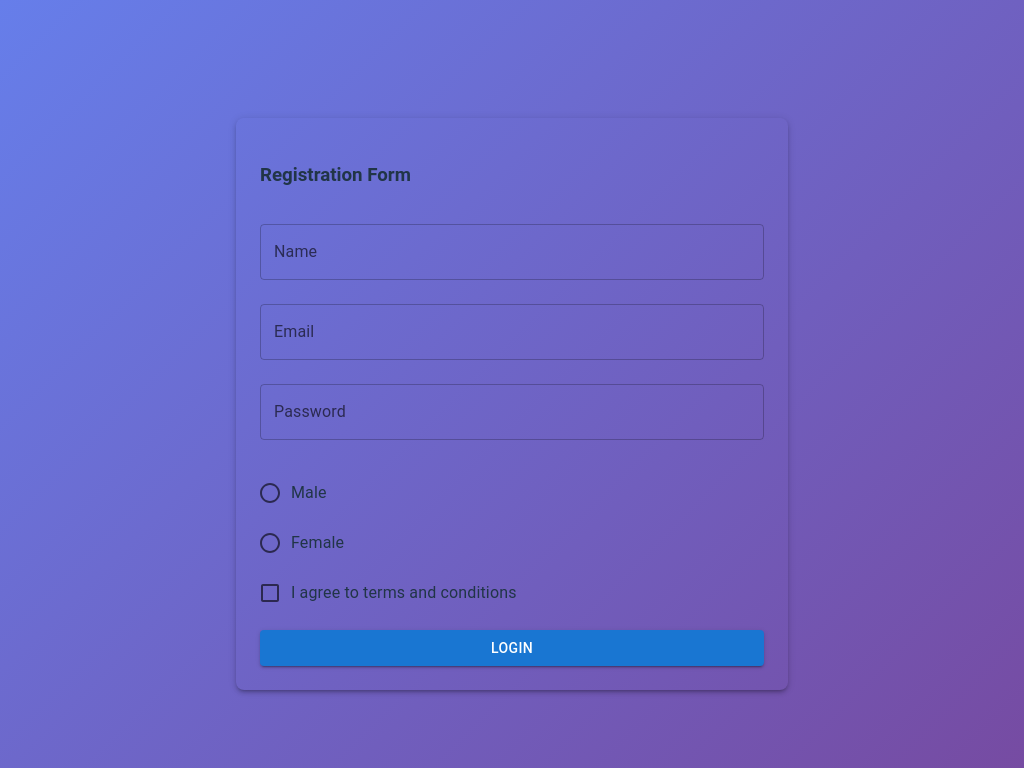
Test case: Login Form Component › SHOWS ERROR for invalid email
Type "wrongemail" into the field labelled "Email".
click(512, 332); type("wrongemail")  # box left=260, top=304, right=764, bottom=360
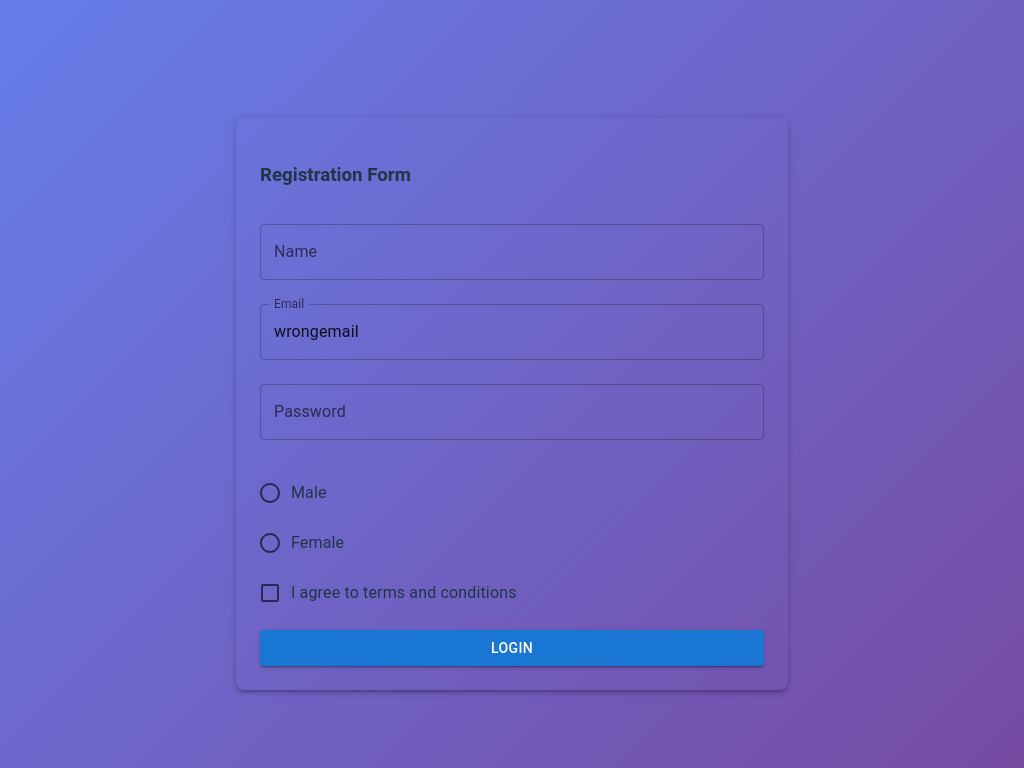
Type "123456" into the password field labelled "Password".
click(512, 412); type("123456")  # box left=260, top=384, right=764, bottom=440
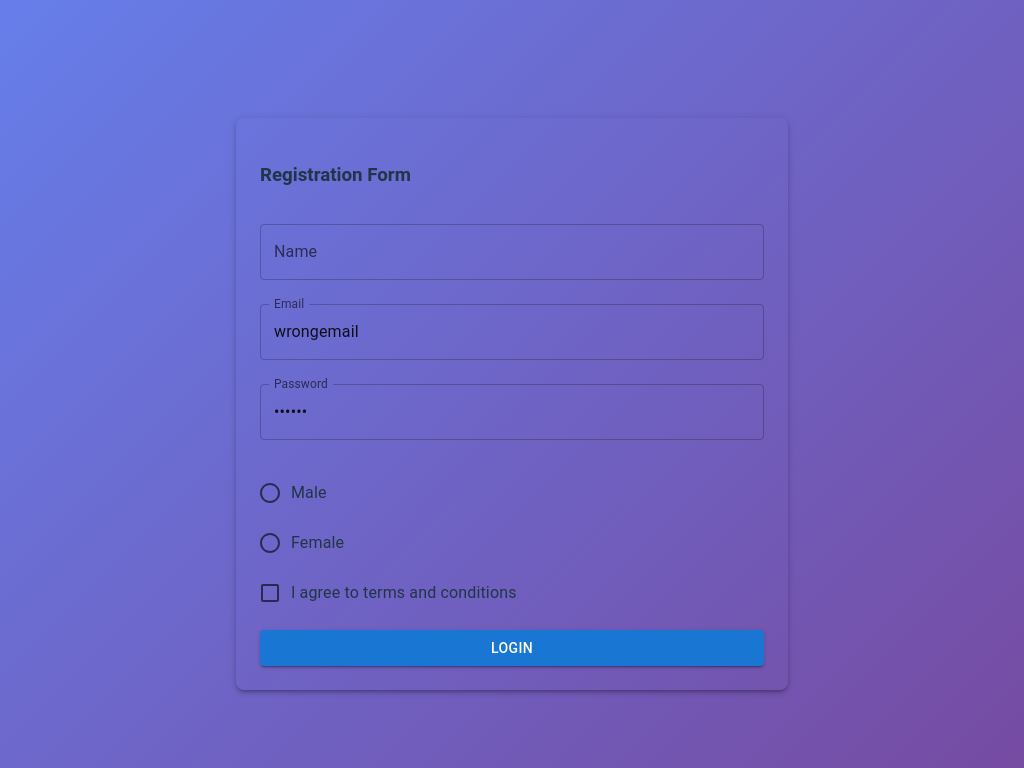
Click the checkbox.
click(387, 592)  # box left=258, top=580, right=517, bottom=604
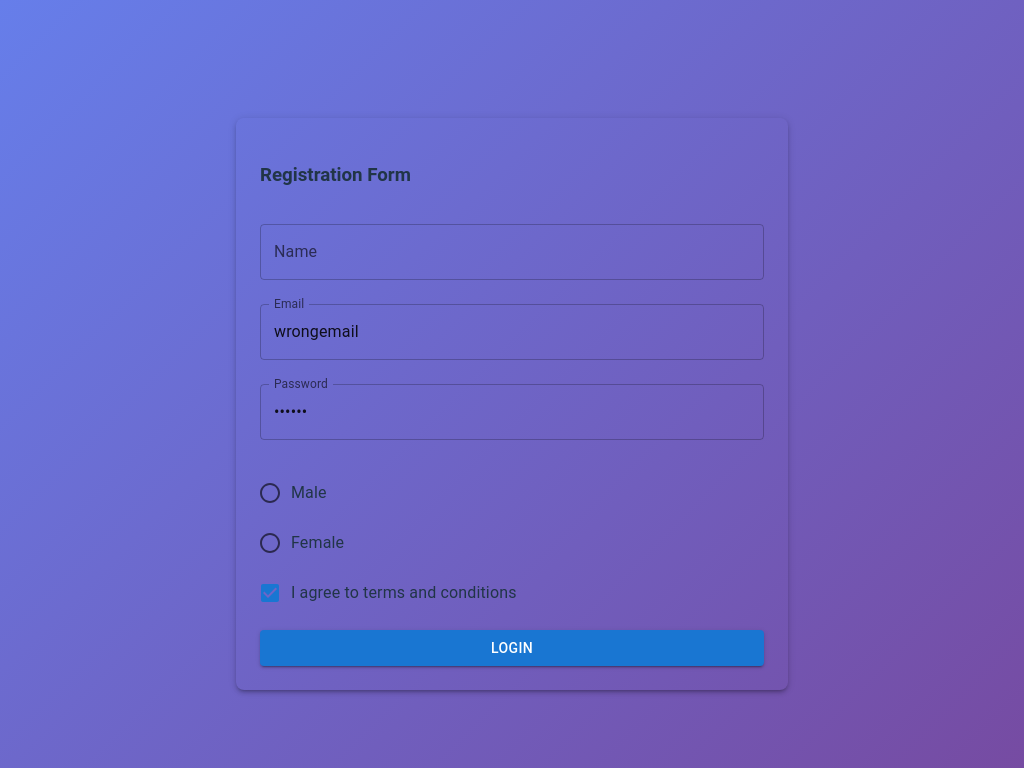
Click the button "login".
click(512, 648)  # box left=260, top=630, right=764, bottom=666
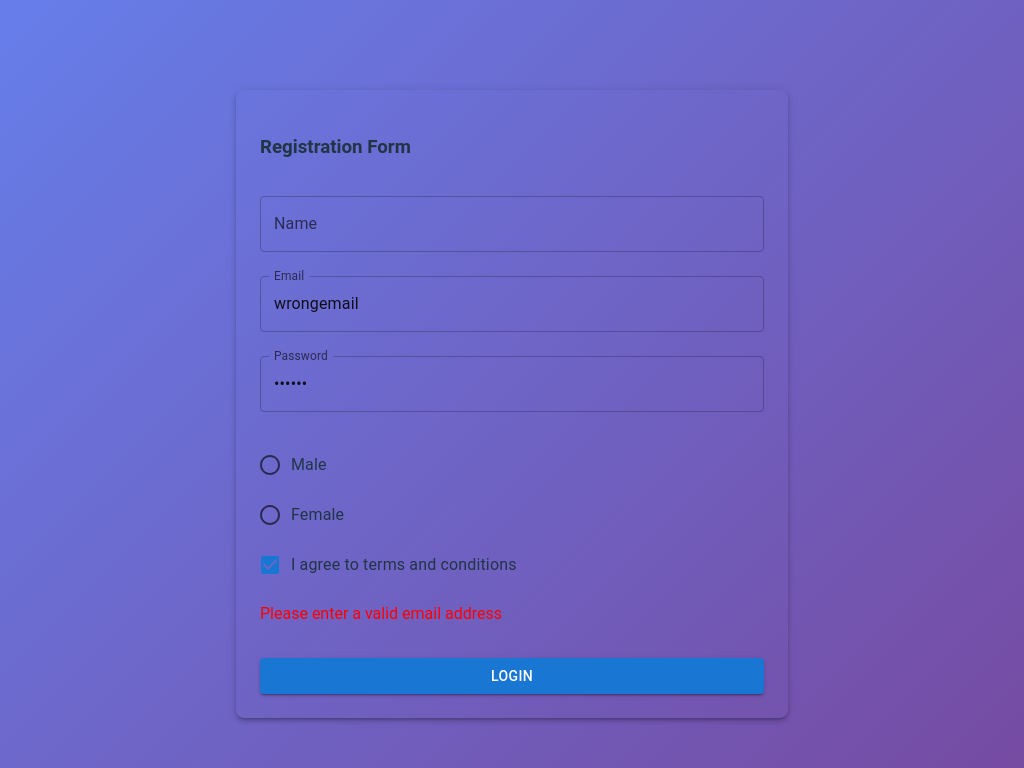
Expected: the text "Please enter a valid email address" is shown, left=260, top=604, right=502, bottom=622
